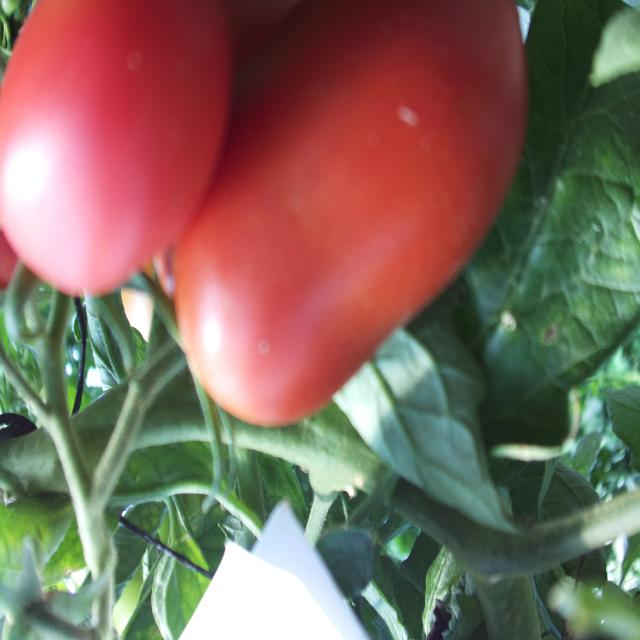kirmizi: (3, 0, 576, 423)
